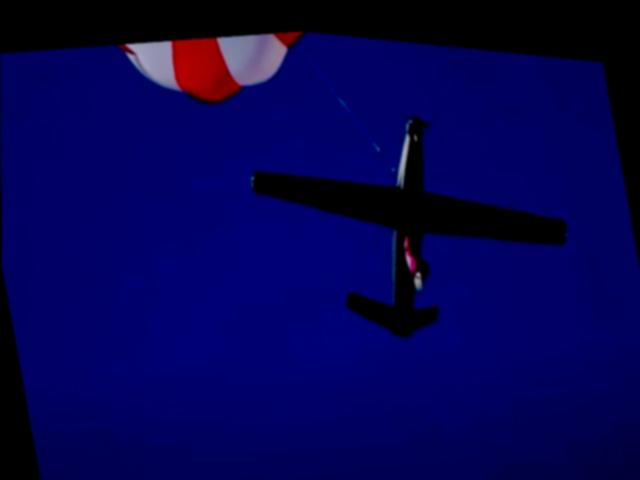iha: (239, 70, 585, 366)
